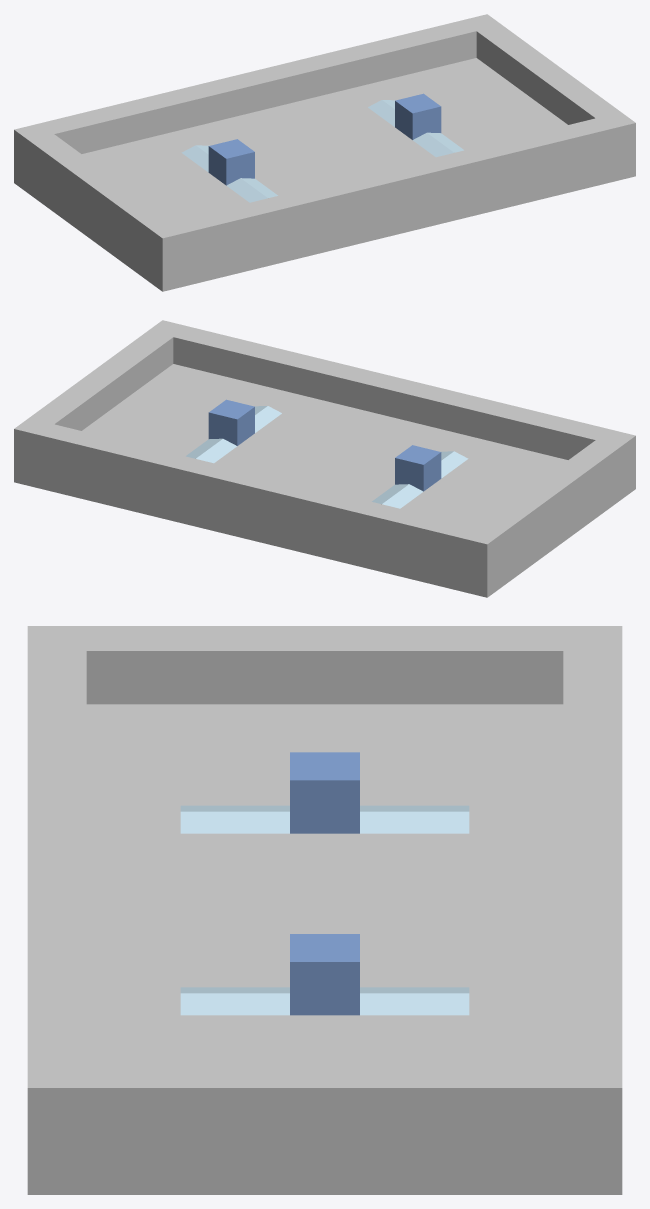
Rendered from hull.glb.
3 views of the same model, one above another, from view 1: azimuth 30°, elevation 25°; view 2: azimuth 150°, elevation 25°; view 3: azimuth 270°, elevation 25° (orthographic). The views are drawn at different scales.
Parts seen in each view (by area): view 1: mesh9; view 2: mesh9; view 3: mesh9.
Part boxes in pixels (box(x1,y1,x2,y2)): mesh9: box(14, 14, 635, 291); mesh9: box(14, 320, 635, 597); mesh9: box(27, 626, 622, 1194).
Size of the model in its own units: 18.54 by 2 by 10.08.
